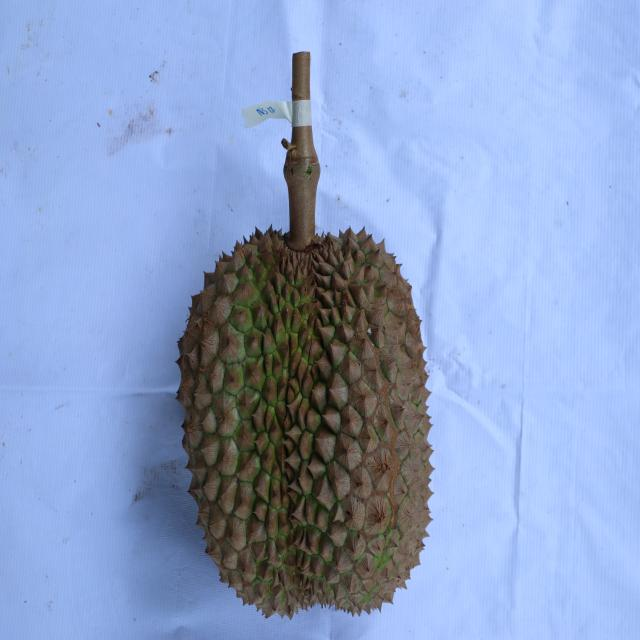mature: (175, 223, 438, 620)
